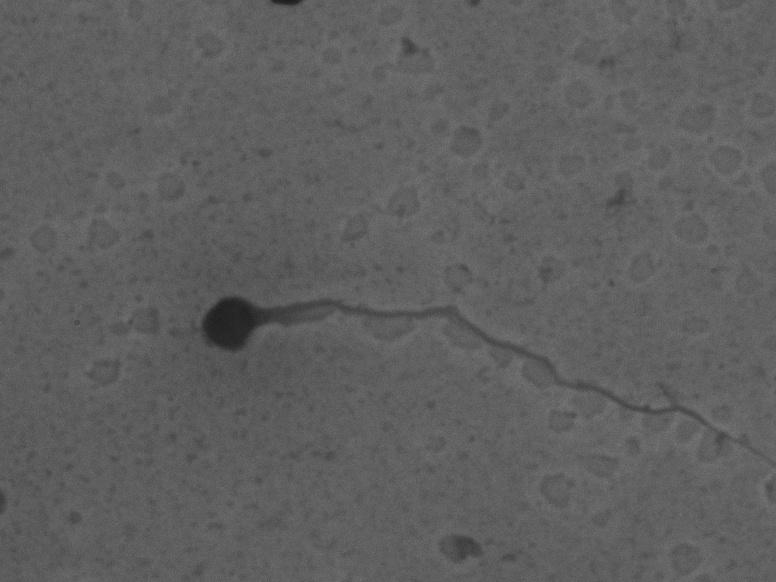Abnormal: (190, 279, 770, 469)
